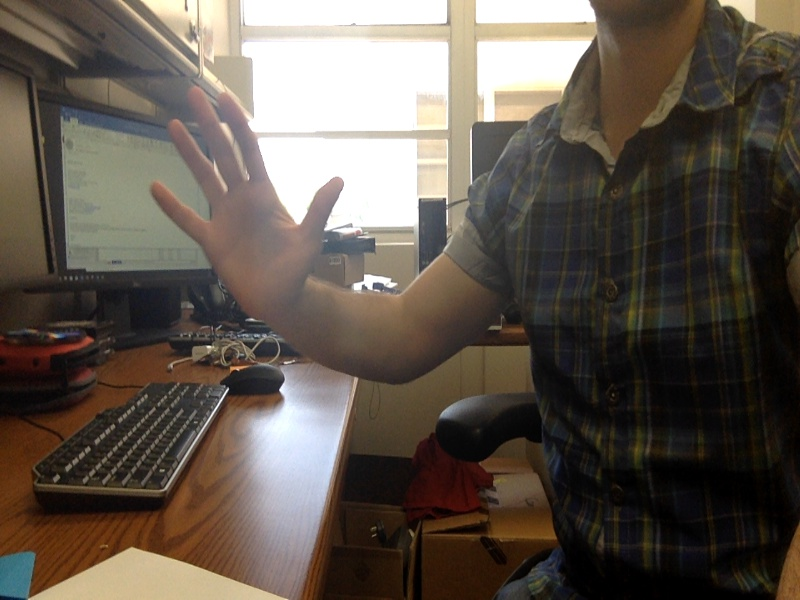5-hand: (153, 88, 344, 322)
